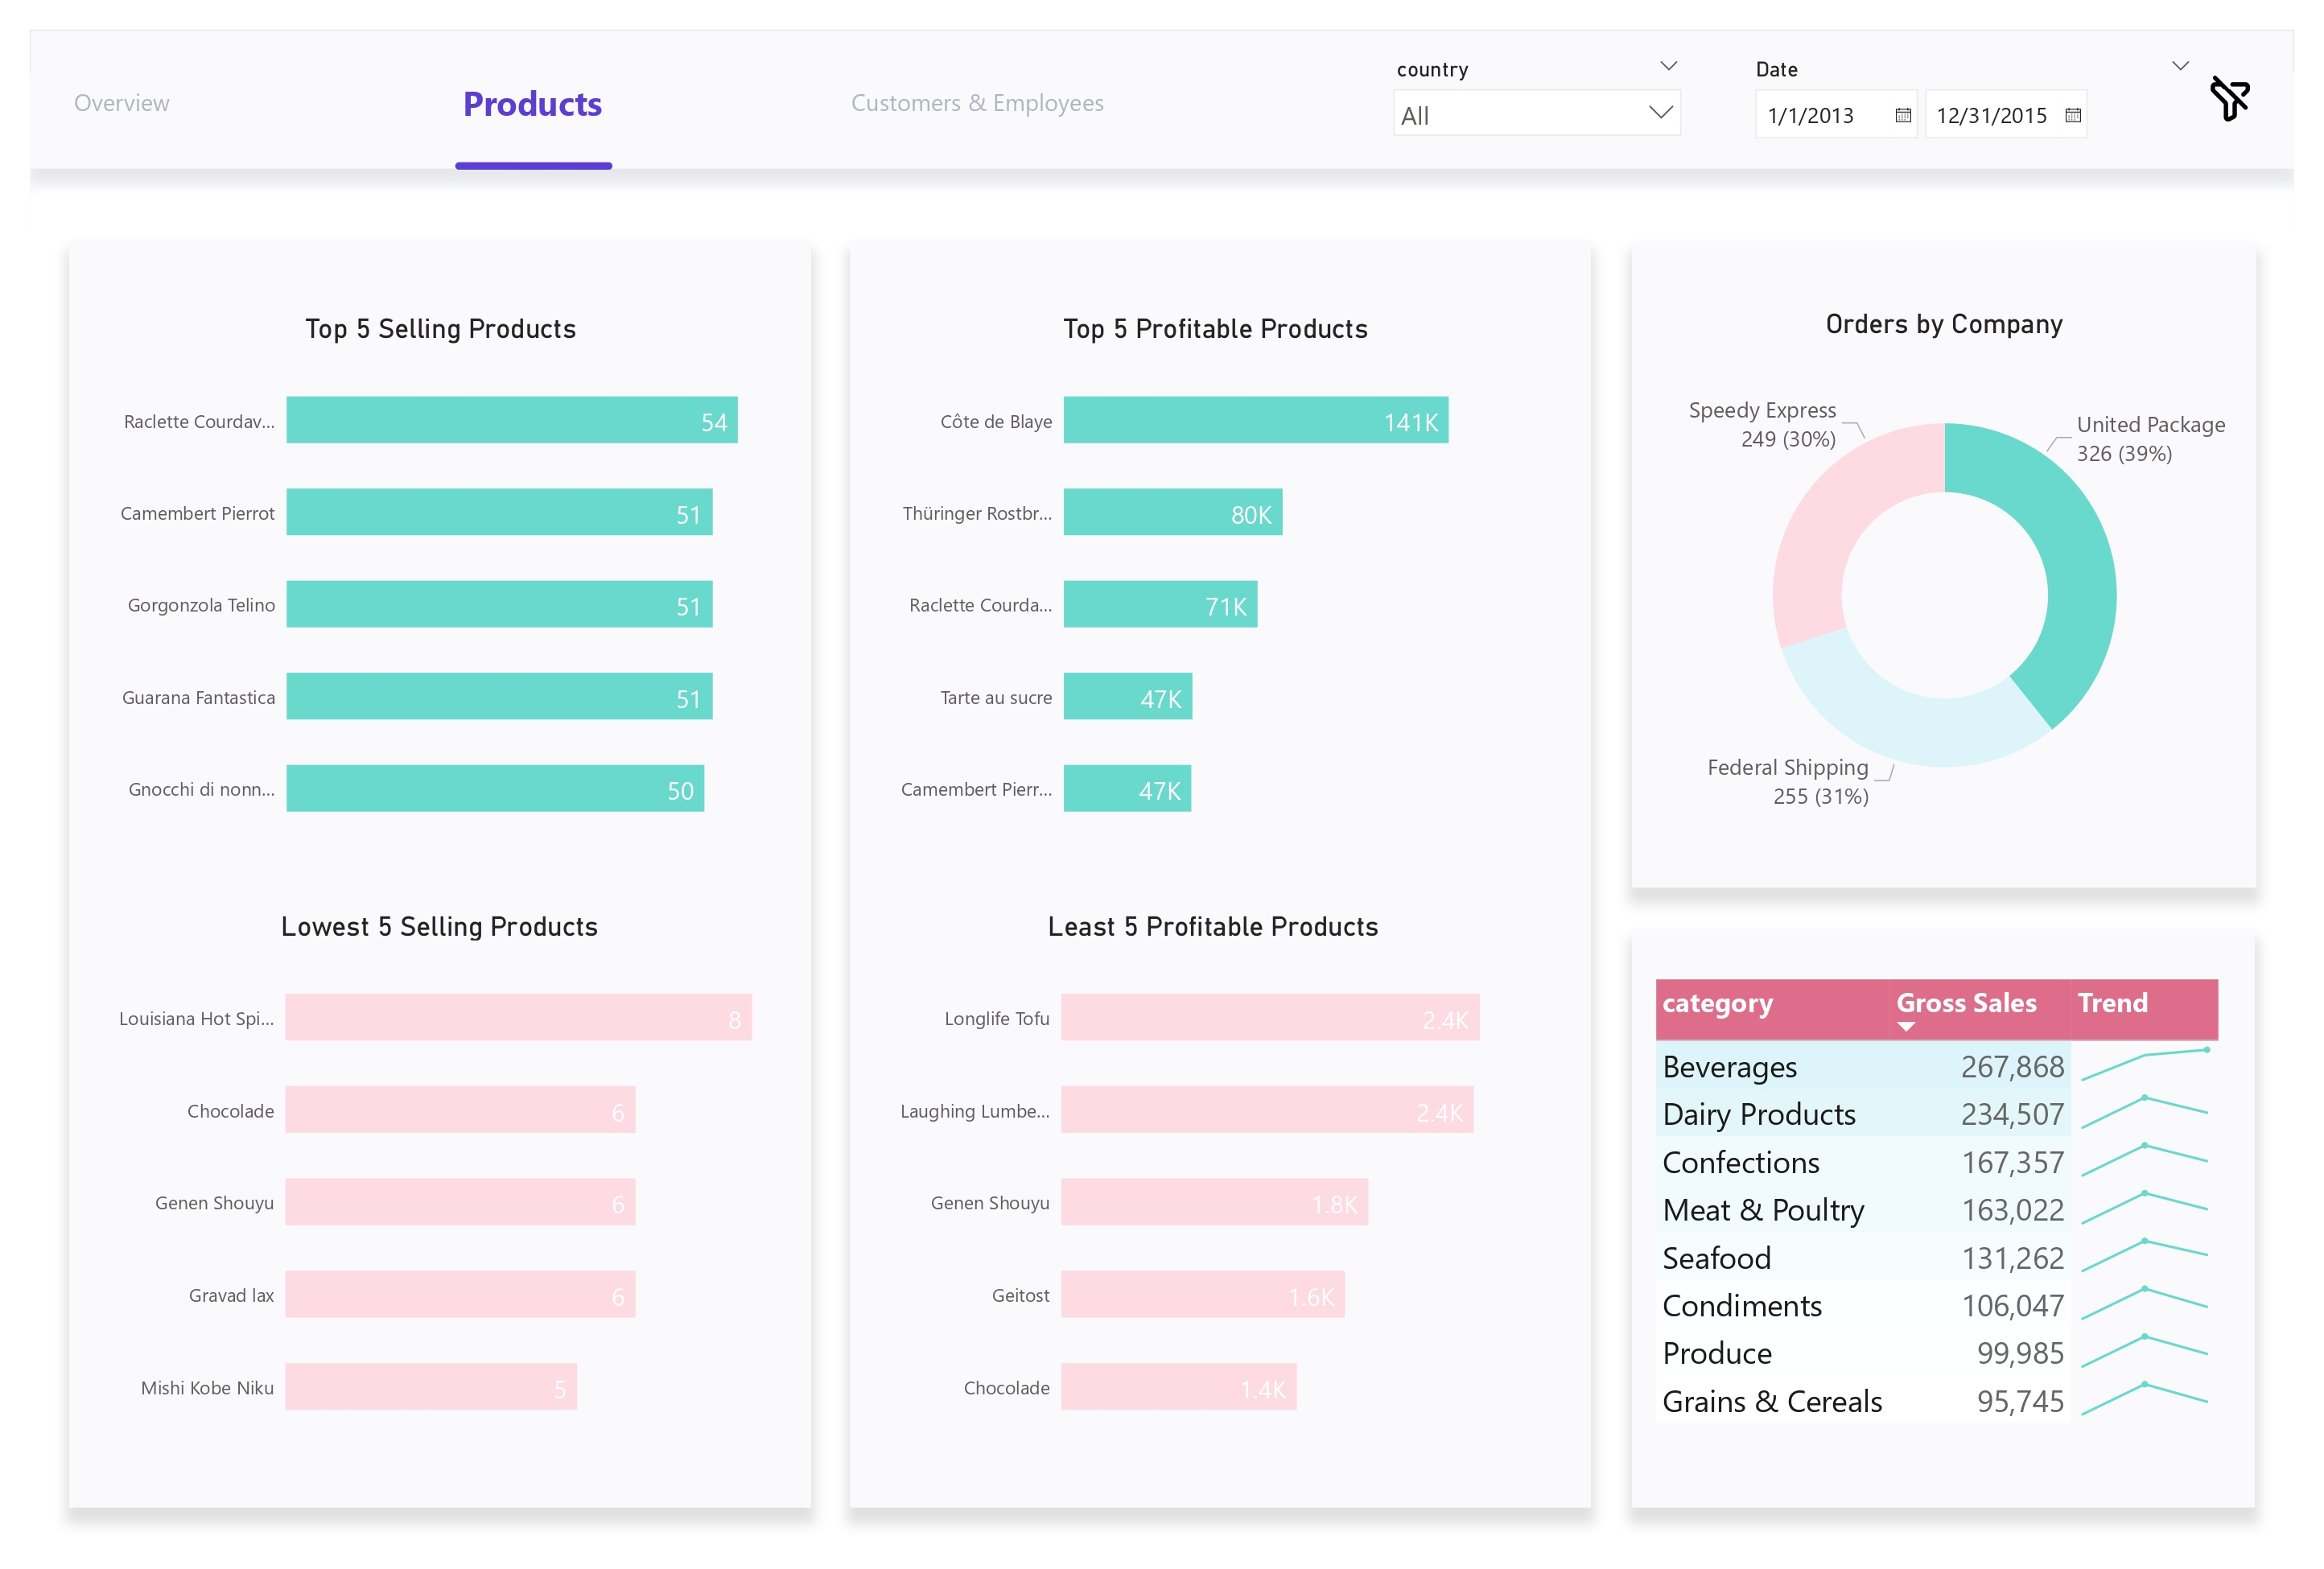

What the dashboard file says about the page in this screenshot:
{"tool":"powerbi","page":{"name":"Products","canvas":[1800,1200],"ordinal":1},"visuals":[{"type":"shape","box":[0,0,1800,110],"z":0},{"type":"shape","box":[652.2,167.2,589,1007.5],"z":1000},{"type":"shape","box":[31.3,167.2,589.6,1007.5],"z":2000},{"type":"shape","box":[1274.5,715.3,494.9,459.9],"z":3000},{"type":"shape","box":[338.3,14.6,124.5,186],"z":4000},{"type":"clusteredBarChart","title":"Top 5 Selling Products","fields":{"Category":["products.productName"],"Y":["Dax Measures (2).Orders"]},"box":[55.1,225.1,543.4,433.6],"z":5000},{"type":"clusteredBarChart","title":"Top 5 Profitable Products","fields":{"Category":["products.productName"],"Y":["Dax Measures (2).Gross Sales"]},"box":[675.6,225.1,533.8,433.6],"z":6000},{"type":"clusteredBarChart","title":"Least 5 Profitable Products","fields":{"Category":["products.productName"],"Y":["Dax Measures (2).Gross Sales"]},"box":[674.3,699.9,533.8,435.5],"z":7000},{"type":"clusteredBarChart","title":"Lowest 5 Selling Products","fields":{"Category":["products.productName"],"Y":["Dax Measures (2).Orders"]},"box":[53.8,699.9,543.4,435.5],"z":8000},{"type":"tableEx","title":"Categories","fields":{"Values":["products.category","Dax Measures (2).Gross Sales","SparklineData(Dax Measures (2).Gross Sales_[Dates.Year])"]},"box":[1287,750,462,425],"z":9000},{"type":"image","box":[1709,31.3,80.6,50.7],"z":10000},{"type":"slicer","fields":{"Values":["Dates.Date"]},"box":[1359.1,16.1,370.8,162],"z":11000},{"type":"shape","box":[1274.5,167.9,495.5,514.4],"z":11000,"group":"g1"},{"type":"slicer","fields":{"Values":["customers.country"]},"box":[1074.5,16.1,248.2,162],"z":12000},{"type":"group","id":"g1","title":"Group 1","box":[1274.5,167.9,495.5,514.4],"z":13000},{"type":"pageNavigator","box":[35.2,30.8,928.6,51.3],"z":14000},{"type":"donutChart","title":"Orders by Company","fields":{"Category":["shippers.companyName"],"Y":["Dax Measures (2).Orders"]},"box":[1287,220.6,473,433.6],"z":15001,"group":"g1"}]}

Visuals, with their boxes on the page's 1800x1200 design canvas (x1, y1, x2, y2). These are canvas units, not pixel positions in the 2324x1569 screenshot, which may show the page scaled, cropped or inside an application window:
shape: select_region(0, 0, 1800, 110)
shape: select_region(652, 167, 1241, 1175)
shape: select_region(31, 167, 621, 1175)
shape: select_region(1274, 715, 1769, 1175)
shape: select_region(338, 15, 463, 201)
"Top 5 Selling Products" clusteredBarChart: select_region(55, 225, 598, 659)
"Top 5 Profitable Products" clusteredBarChart: select_region(676, 225, 1209, 659)
"Least 5 Profitable Products" clusteredBarChart: select_region(674, 700, 1208, 1135)
"Lowest 5 Selling Products" clusteredBarChart: select_region(54, 700, 597, 1135)
"Categories" tableEx: select_region(1287, 750, 1749, 1175)
image: select_region(1709, 31, 1790, 82)
slicer - Dates.Date: select_region(1359, 16, 1730, 178)
shape: select_region(1274, 168, 1770, 682)
slicer - customers.country: select_region(1074, 16, 1323, 178)
"Group 1" group: select_region(1274, 168, 1770, 682)
pageNavigator: select_region(35, 31, 964, 82)
"Orders by Company" donutChart: select_region(1287, 221, 1760, 654)
